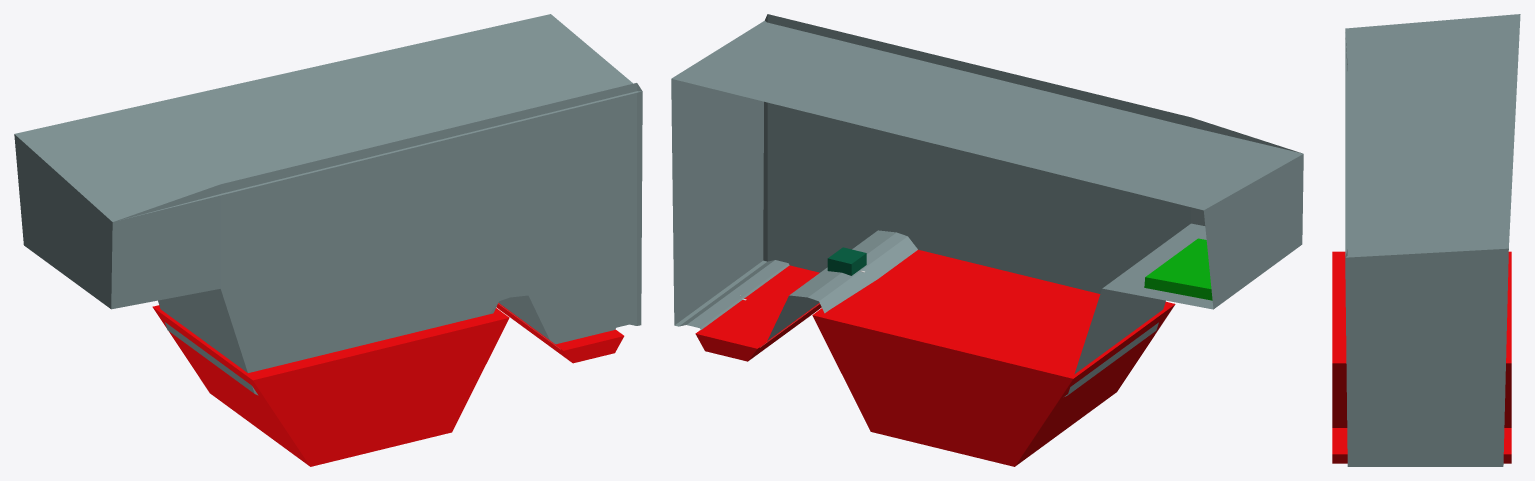
File: lvl_Cave.fbx
The picture shows the model from 3 angles, left to right: view 1: azimuth 30°, elevation 25°; view 2: azimuth 150°, elevation 25°; view 3: azimuth 270°, elevation 25°; orthographic projection. The views are drawn at different scales.
Visible parts, largest first — view 1: solid_level, die_box.001, die_box.002; view 2: solid_level, die_box.001, die_box.002, win_box.001, chk_box.001; view 3: solid_level, die_box.001, die_box.002.
Part boxes in pixels (bbox=[...]): solid_level: bbox=[14, 14, 642, 395]; die_box.001: bbox=[152, 305, 509, 466]; die_box.002: bbox=[496, 303, 624, 363]; solid_level: bbox=[671, 14, 1303, 396]; die_box.001: bbox=[812, 249, 1175, 466]; die_box.002: bbox=[695, 265, 821, 361]; win_box.001: bbox=[1144, 238, 1212, 300]; chk_box.001: bbox=[827, 247, 866, 275]; solid_level: bbox=[1345, 14, 1520, 466]; die_box.001: bbox=[1332, 251, 1511, 427]; die_box.002: bbox=[1332, 428, 1511, 463].
Bounding box in the file's own units: 29157 × 15893 × 10052.
